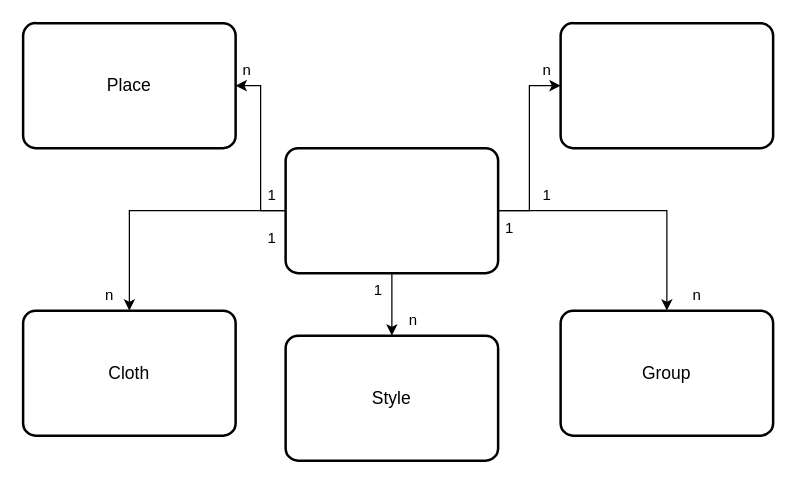
Some shapes in this 795 by 483 pixel diagram are drawn without their labels. Here are the shapes that lost their labels. From the top down, the box of each, then its label:
(559, 21, 774, 149): Category
(284, 146, 499, 274): User
